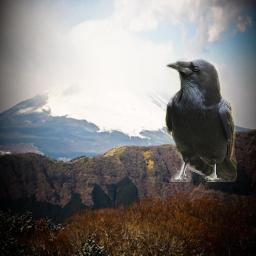Crow: (164, 58, 237, 182)
